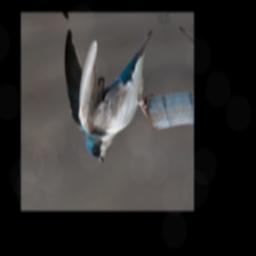Swallow: (54, 17, 176, 168)
